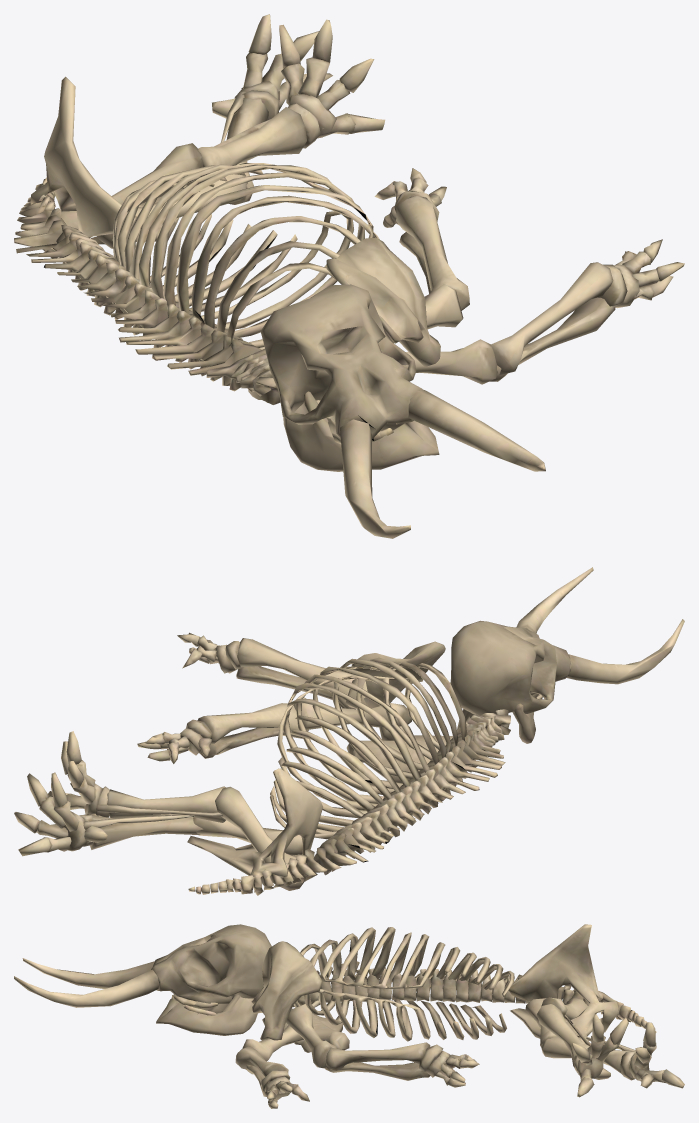
File: elephant_bones.glb
3 renders of one model, top to bottom at view 1: azimuth 30°, elevation 25°; view 2: azimuth 150°, elevation 25°; view 3: azimuth 270°, elevation 25°, orthographic. The views are drawn at different scales.
Visible parts, largest first — view 1: PM3D_Sphere3D1_9.001; view 2: PM3D_Sphere3D1_9.001; view 3: PM3D_Sphere3D1_9.001.
Boxes of the visible parts, <box> form: PM3D_Sphere3D1_9.001: <box>14,14,684,538</box>; PM3D_Sphere3D1_9.001: <box>14,567,684,895</box>; PM3D_Sphere3D1_9.001: <box>14,924,684,1108</box>.
Bounding box in the file's own units: 3.27 × 1.14 × 6.2.
Materials: 1 (1 with a texture image).
